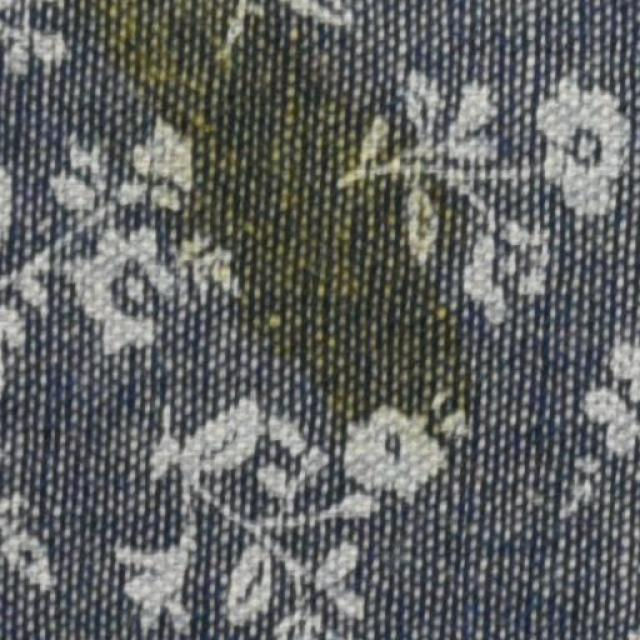Stain: (36, 0, 476, 441)
